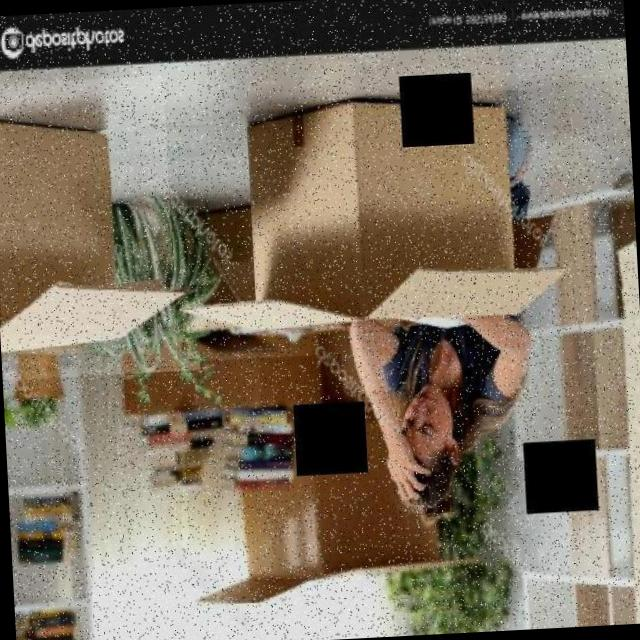box: (162, 53, 583, 362), (182, 386, 483, 624), (0, 74, 201, 380), (108, 184, 344, 428)
